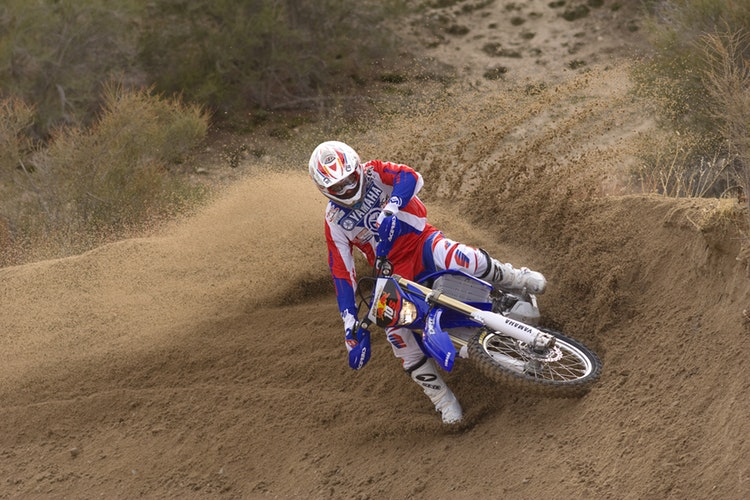helmet: (306, 135, 376, 212)
